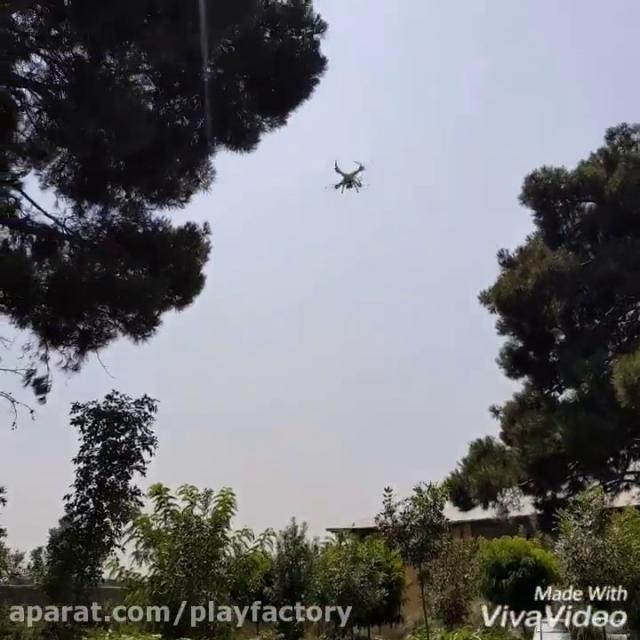drone: (325, 156, 375, 197)
